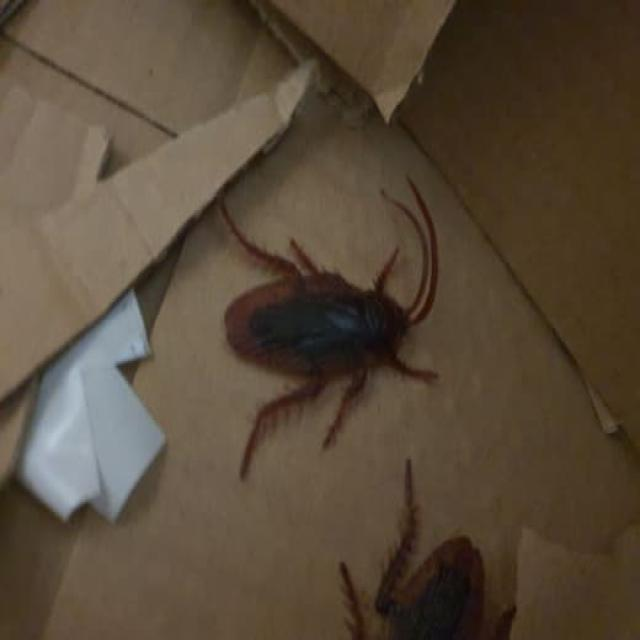Cockroach: (204, 158, 442, 456), (318, 461, 516, 640)
